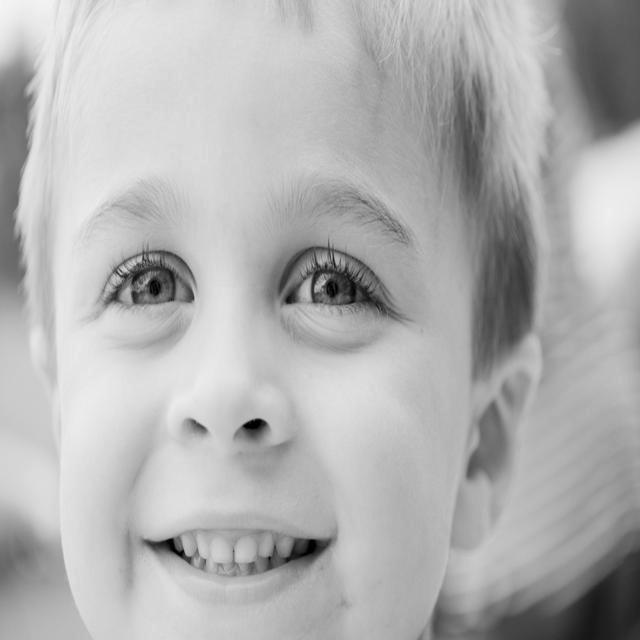Happiness: (46, 18, 480, 640)
